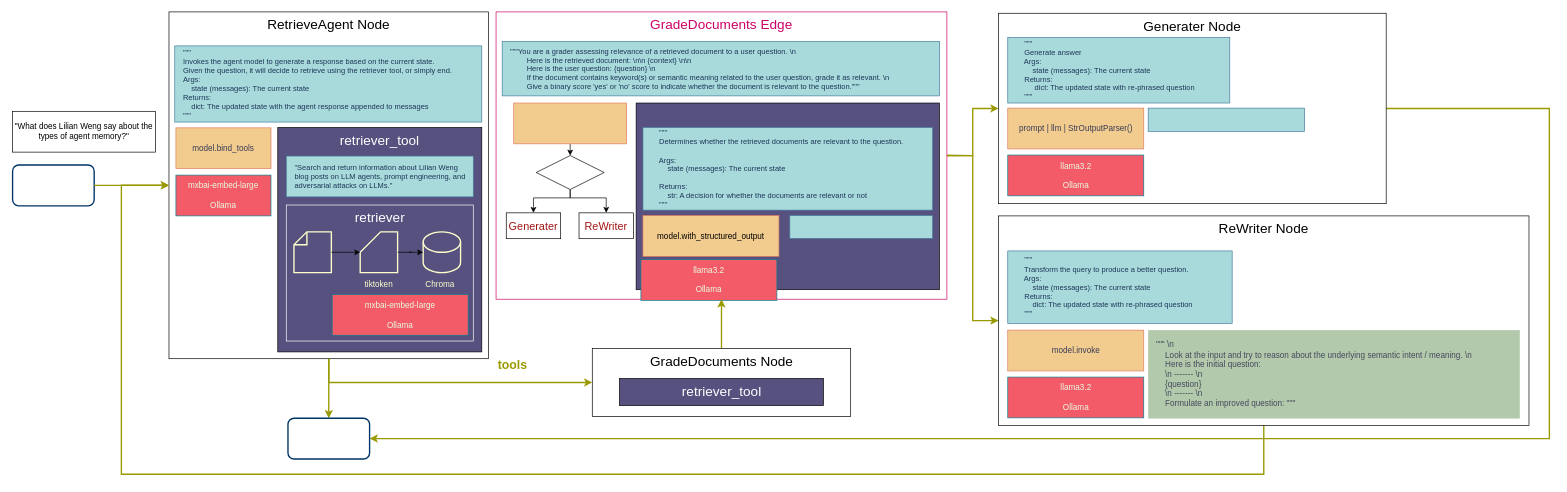
This 1567x492 diagram has some shape labels left out. The centre of each missing label's shape, as x and y in pixels:
"Relevance score 'yes' or 'no'": (861,226)
DOC: (312,252)
END: (328,438)
prompt = hub.pull("rlm/rag-prompt"): (1226,119)
prompt | llm_with_tool: (570,123)
score==yes: (570,172)
START: (53,185)
TOKEN: (378,252)
VECTOR: (441,252)
